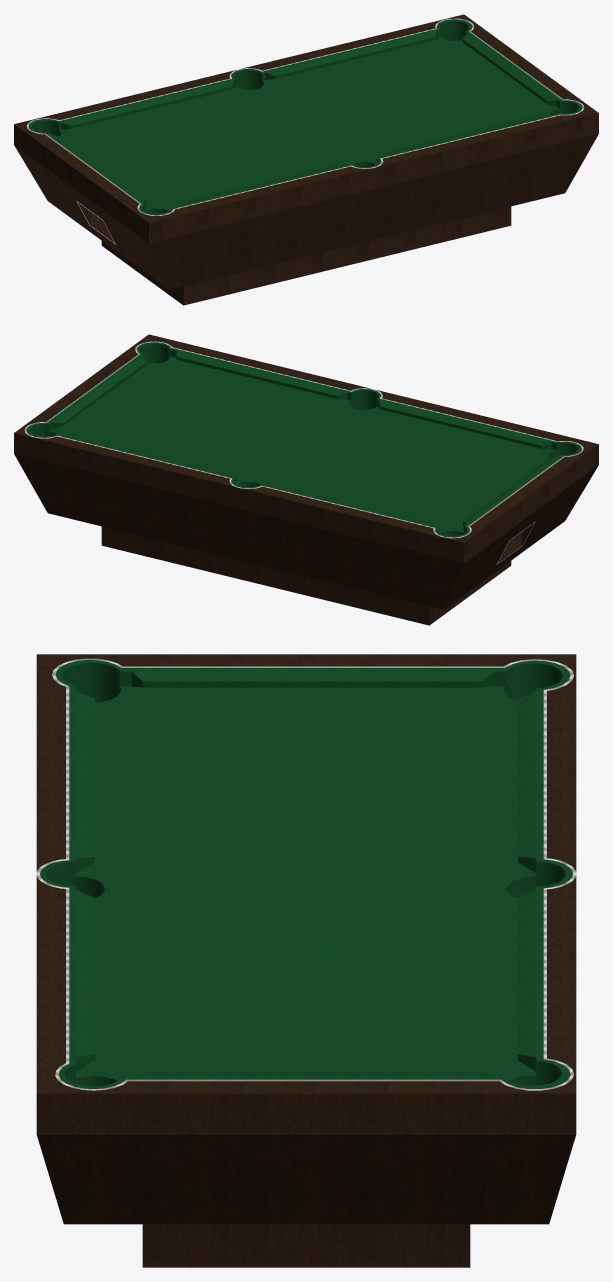
Rendered from pool_table.glb.
3 views of the same model, one above another, from view 1: azimuth 30°, elevation 25°; view 2: azimuth 150°, elevation 25°; view 3: azimuth 270°, elevation 25° (orthographic). The views are drawn at different scales.
Parts seen in each view (by area): view 1: instance_0, instance_0.002, instance_0.004, instance_0.013, instance_0.003, instance_0.015, instance_0.008; view 2: instance_0, instance_0.002, instance_0.008, instance_0.013, instance_0.003, instance_0.015, instance_0.004; view 3: instance_0, instance_0.002, instance_0.013, instance_0.003, instance_0.015, instance_0.004, instance_0.008.
Boxes of the visible parts, x1,y1,x2,y2 form: instance_0: (32,21,578,213); instance_0.002: (14,14,598,289); instance_0.004: (122,134,598,266); instance_0.013: (101,206,511,305); instance_0.003: (28,19,582,215); instance_0.015: (26,18,584,215); instance_0.008: (14,145,53,189); instance_0: (31,343,577,535); instance_0.002: (14,334,598,609); instance_0.008: (14,454,490,586); instance_0.013: (101,526,511,625); instance_0.003: (26,342,581,537); instance_0.015: (24,341,583,538); instance_0.004: (559,465,598,509); instance_0: (46,663,565,1085); instance_0.002: (36,654,576,1224); instance_0.013: (142,1224,470,1267); instance_0.003: (40,660,572,1088); instance_0.015: (36,658,576,1090); instance_0.004: (37,1135,144,1179); instance_0.008: (468,1135,575,1179).
Bounding box in the file's own units: 3.18 × 0.79 × 1.65.
Materials: 5 (4 with a texture image).
